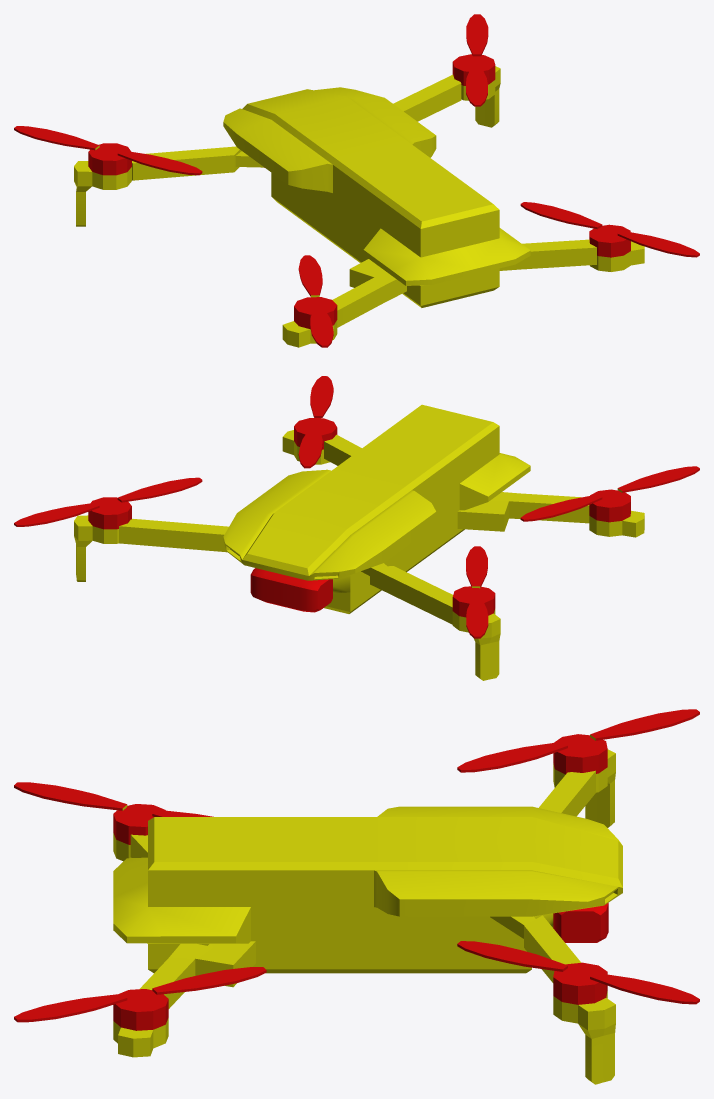
The model's file is SM_Drone.fbx.
3 views of the same model, one above another, from view 1: azimuth 30°, elevation 25°; view 2: azimuth 150°, elevation 25°; view 3: azimuth 270°, elevation 25° (orthographic). The views are drawn at different scales.
Parts seen in each view (by area): view 1: Drone; view 2: Drone; view 3: Drone.
Boxes of the visible parts, <box> form: Drone: <box>14,14,699,347</box>; Drone: <box>14,376,699,680</box>; Drone: <box>14,709,699,1084</box>.
Size of the model in its own units: 311 by 56.23 by 308.
